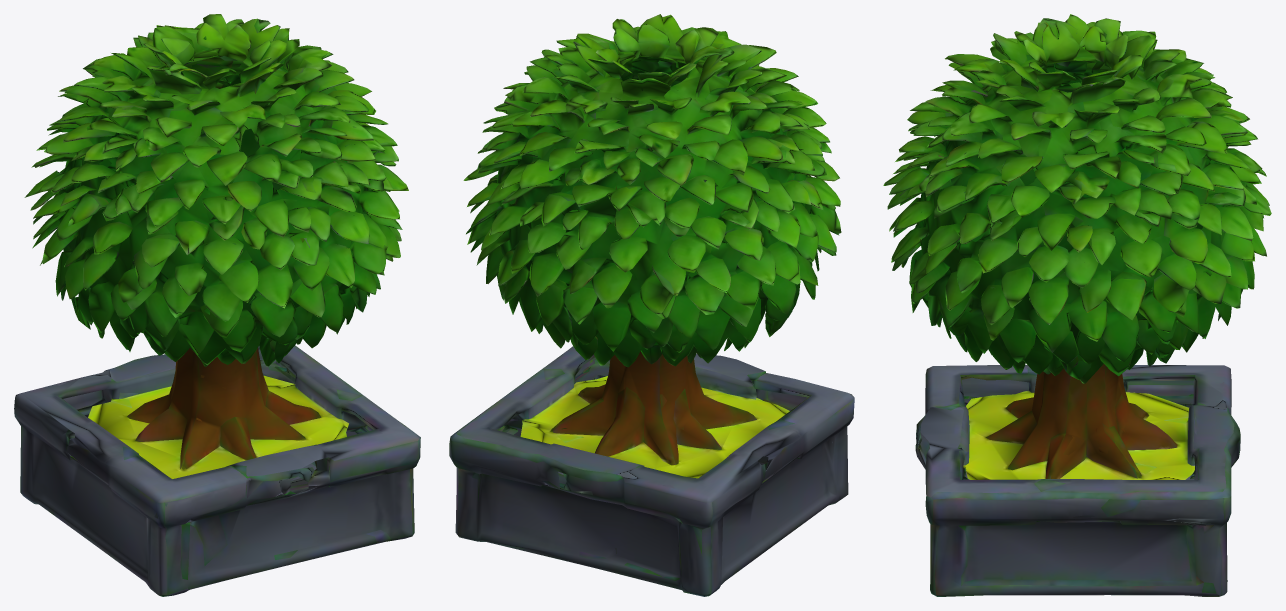
The model's file is prop_cloud_teatree.fbx.
3 renders of one model, left to right at view 1: azimuth 30°, elevation 25°; view 2: azimuth 150°, elevation 25°; view 3: azimuth 270°, elevation 25°, orthographic. The views are drawn at different scales.
Parts seen in each view (by area): view 1: geometry_0; view 2: geometry_0; view 3: geometry_0.
Part boxes in pixels (<box>): geometry_0: <box>14,14,420,596</box>; geometry_0: <box>449,14,854,596</box>; geometry_0: <box>883,14,1271,596</box>.
Bounding box in the file's own units: 0.7228 × 0.9978 × 0.7208.
1 material, 1 textured.
